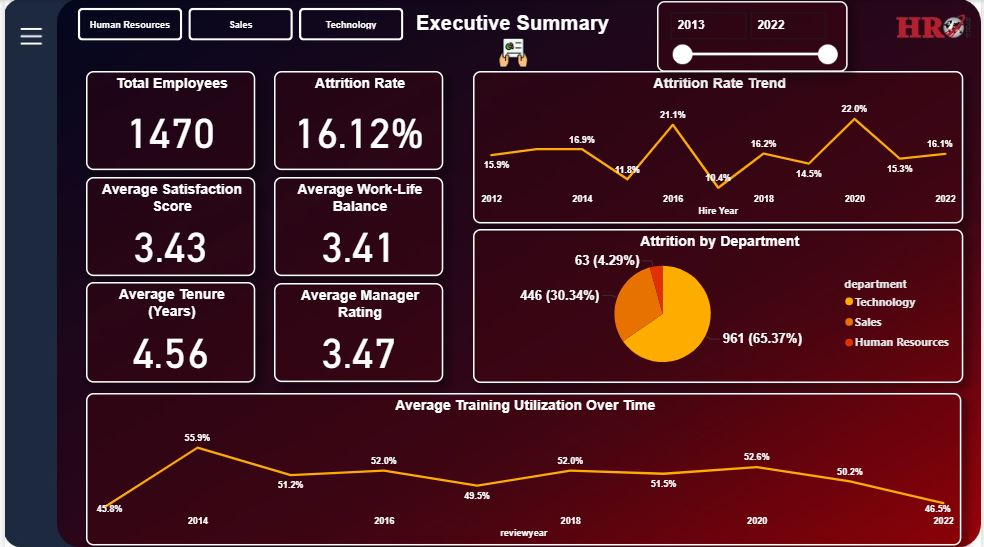

The dashboard page shown, as its layout file describes it:
{"tool":"powerbi","page":{"name":"Executive Summary","canvas":[1280,720],"ordinal":0},"visuals":[{"type":"card","title":"Total Employees","fields":{"Values":["Count(employee_master.employeeid)"]},"box":[106.7,93.3,221.7,130],"z":0},{"type":"card","title":"Attrition Rate","fields":{"Values":["employee_master.Attrition Rate (%)"]},"box":[353.3,93,221.7,130],"z":1000},{"type":"card","title":"Average Satisfaction Score","fields":{"Values":["Avg(performance_fact.jobsatisfaction)"]},"box":[106.7,231.7,221.7,130],"z":2000},{"type":"card","title":"Average Work-Life Balance","fields":{"Values":["Avg(performance_fact.worklifebalance)"]},"box":[353.3,232.5,221.7,130],"z":3000},{"type":"card","title":"Average Manager Rating","fields":{"Values":["Avg(performance_fact.managerrating)"]},"box":[353.3,371.7,221.7,130],"z":4000},{"type":"lineChart","title":"Attrition Rate Trend","fields":{"Category":["employee_master.Hire Year"],"Y":["employee_master.Attrition Rate Trend (%)"]},"box":[613.3,93.3,643.3,200],"z":5000},{"type":"pieChart","title":"Attrition by Department","fields":{"Y":["CountNonNull(employee_master.attrition)"],"Category":["employee_master.department"]},"box":[613.3,300,643.3,201.7],"z":6000},{"type":"actionButton","title":"Menu btn","box":[15,27.1,40,40],"z":7000},{"type":"advancedSlicerVisual","fields":{"Values":["employee_master.department"]},"box":[90,5.6,438.9,53.3],"z":8000},{"type":"textbox","box":[528,11,274.3,41],"z":9000},{"type":"image","box":[632,45,69,49],"z":10000},{"type":"lineChart","title":"Average Training Utilization Over Time","fields":{"Category":["performance_fact.reviewyear"],"Y":["performance_fact.Avg Training Utilization (%)"]},"box":[106.7,515,1148.3,200],"z":11000},{"type":"card","title":"Average Tenure (Years)","fields":{"Values":["Avg(employee_master.yearsatcompany)"]},"box":[106.7,370,221.7,131.7],"z":12000},{"type":"slicer","title":"Years","fields":{"Values":["performance_fact.reviewyear"]},"box":[855,1.2,250,92.5],"z":13000}]}

Visuals, with their boxes in screenshot pixels (x1, y1, x2, y2), scaled from the page's 1280x720 canvas onto the 984x547 screenshot:
"Total Employees" card: Rect(82, 71, 252, 170)
"Attrition Rate" card: Rect(272, 71, 442, 169)
"Average Satisfaction Score" card: Rect(82, 176, 252, 275)
"Average Work-Life Balance" card: Rect(272, 177, 442, 275)
"Average Manager Rating" card: Rect(272, 282, 442, 381)
"Attrition Rate Trend" lineChart: Rect(471, 71, 966, 223)
"Attrition by Department" pieChart: Rect(471, 228, 966, 381)
"Menu btn" actionButton: Rect(12, 21, 42, 51)
advancedSlicerVisual - employee_master.department: Rect(69, 4, 407, 45)
textbox: Rect(406, 8, 617, 40)
image: Rect(486, 34, 539, 71)
"Average Training Utilization Over Time" lineChart: Rect(82, 391, 965, 543)
"Average Tenure (Years)" card: Rect(82, 281, 252, 381)
"Years" slicer: Rect(657, 1, 849, 71)
